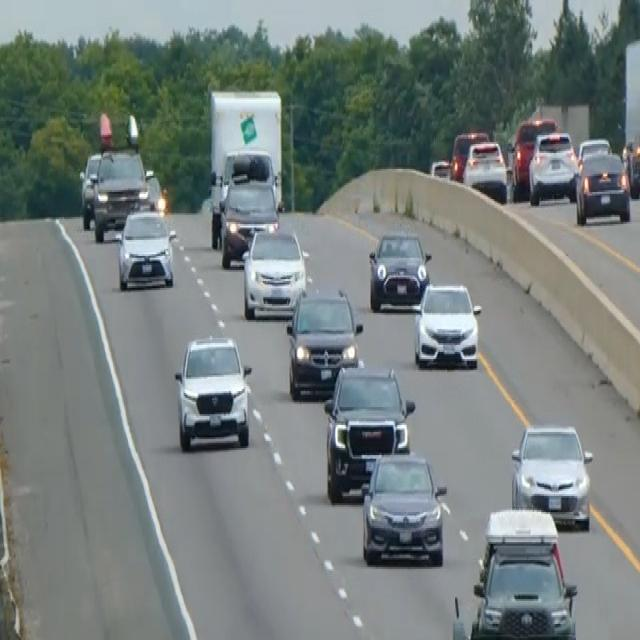car: (452, 505, 578, 638), (323, 361, 415, 501), (359, 448, 447, 567), (509, 420, 593, 530), (285, 286, 362, 400), (413, 279, 482, 370), (241, 226, 307, 320), (218, 174, 279, 267), (367, 228, 431, 311), (115, 204, 176, 290), (574, 149, 631, 226), (527, 128, 578, 204), (510, 114, 556, 195), (462, 137, 508, 203), (449, 128, 488, 181), (78, 150, 101, 228), (142, 167, 166, 213), (622, 135, 639, 197), (576, 135, 611, 165), (429, 156, 450, 180)
jeep: (172, 329, 253, 453)
truck: (206, 85, 284, 249)
